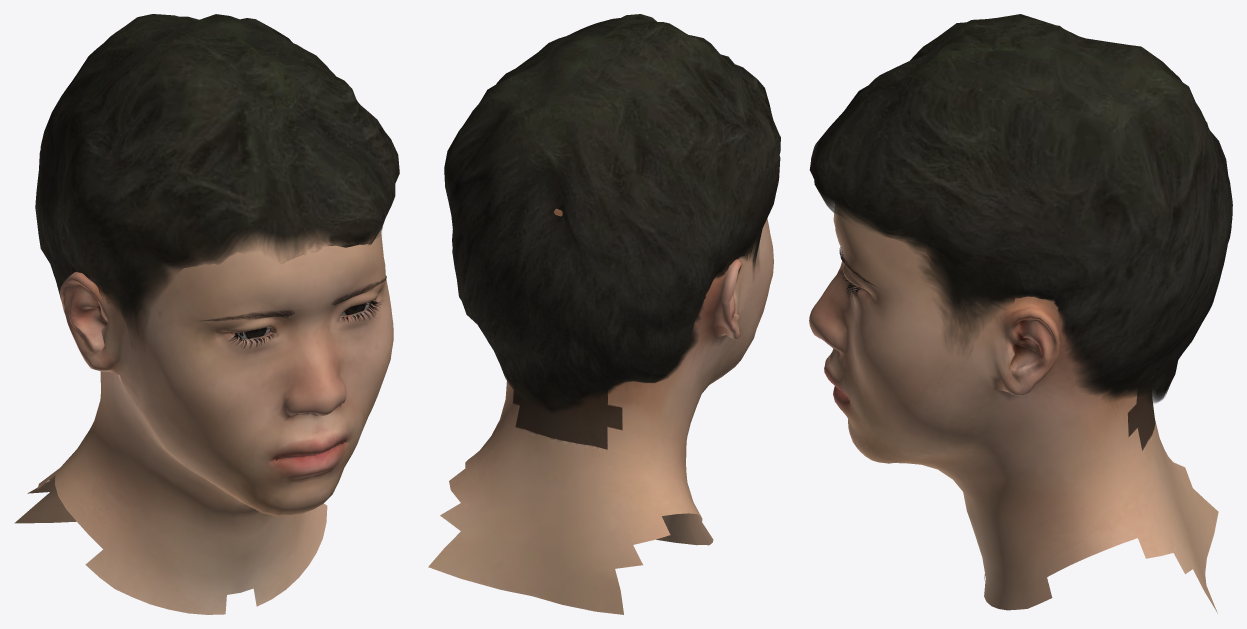
File: patient01.glb
The picture shows the model from 3 angles, left to right: view 1: azimuth 30°, elevation 25°; view 2: azimuth 150°, elevation 25°; view 3: azimuth 270°, elevation 25°; orthographic projection. The views are drawn at different scales.
Parts seen in each view (by area): view 1: park_daeri.body, park_daeri.short02, park_daeri.eyebrow001, park_daeri.eyelashes01; view 2: park_daeri.short02, park_daeri.body; view 3: park_daeri.short02, park_daeri.body.
Boxes of the visible parts, x1=… form: park_daeri.body: x1=14, y1=230, x2=393, y2=614; park_daeri.short02: x1=35, y1=14, x2=399, y2=343; park_daeri.eyebrow001: x1=201, y1=276, x2=386, y2=321; park_daeri.eyelashes01: x1=228, y1=300, x2=381, y2=348; park_daeri.short02: x1=444, y1=14, x2=780, y2=413; park_daeri.body: x1=428, y1=208, x2=773, y2=614; park_daeri.short02: x1=809, y1=14, x2=1232, y2=403; park_daeri.body: x1=809, y1=204, x2=1218, y2=613.
Bounding box in the file's own units: 0.1755 × 0.317 × 0.2203.
Materials: 8 (7 with a texture image).
